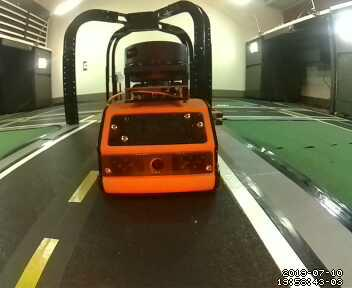pheeno: (101, 42, 222, 202)
